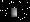person: (9, 9, 17, 18)
